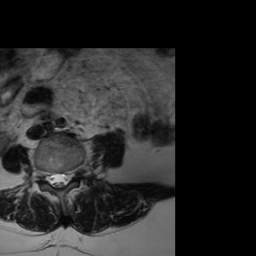CCS_stenosis: (54, 163, 61, 196)
LFS_normal: (70, 159, 78, 185)
LLS_normal: (61, 164, 70, 191)
RFS_normal: (38, 159, 46, 189)
RLS_normal: (46, 163, 54, 191)
